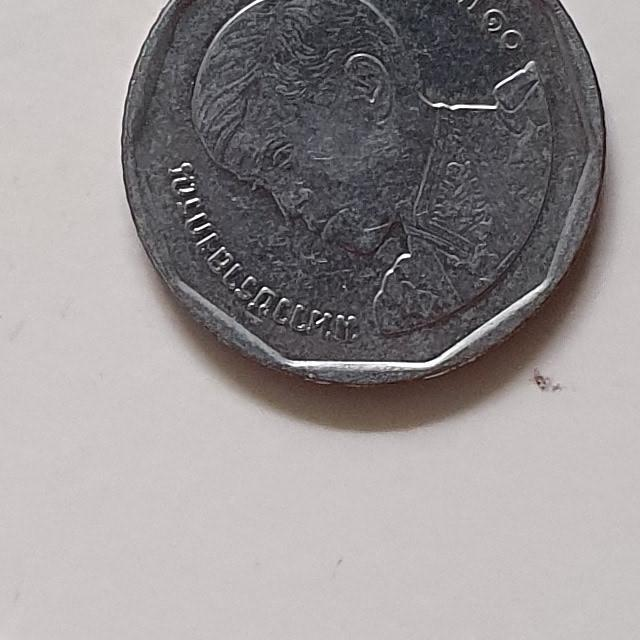5 Bath: (109, 1, 618, 401)
